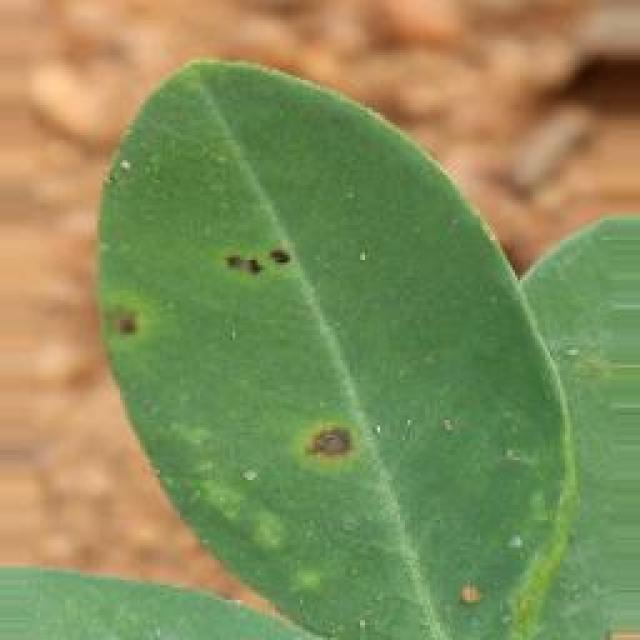Sigatoka: (202, 223, 346, 307), (283, 389, 384, 488), (87, 292, 164, 362), (442, 541, 497, 623)
